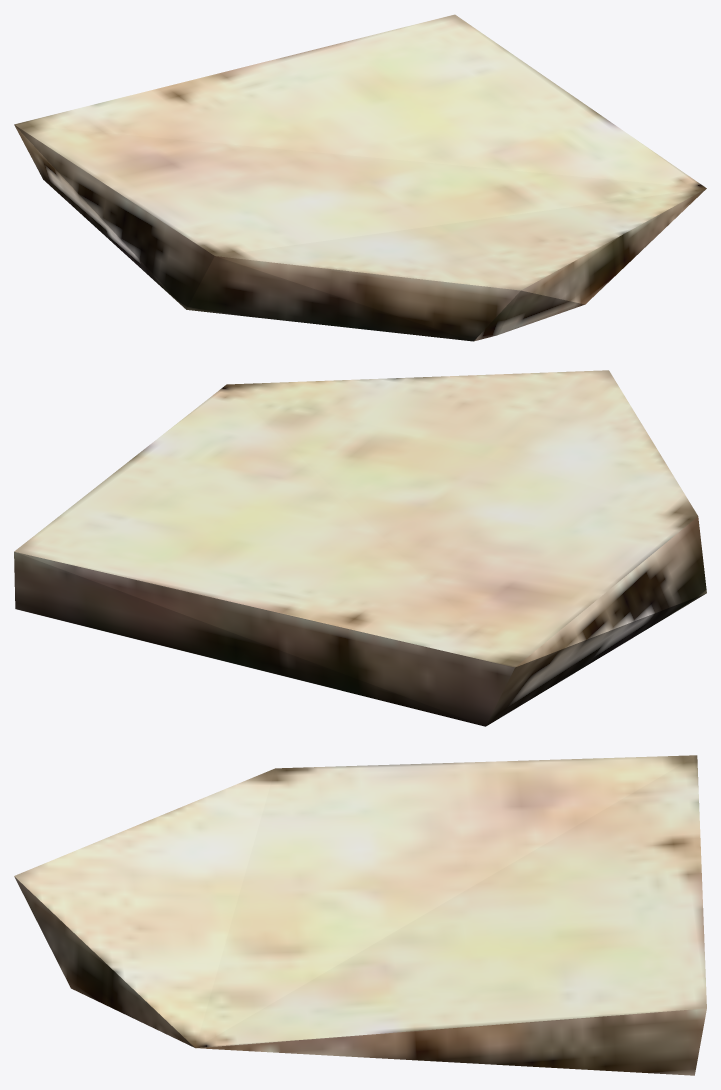
Rendered from ga3_rock_c_lod2.glb.
3 renders of one model, top to bottom at view 1: azimuth 30°, elevation 25°; view 2: azimuth 150°, elevation 25°; view 3: azimuth 270°, elevation 25°, orthographic. The views are drawn at different scales.
Visible parts, largest first — view 1: ga3_rock_c_lod2; view 2: ga3_rock_c_lod2; view 3: ga3_rock_c_lod2.
Part boxes in pixels (left/top/right/bottom): ga3_rock_c_lod2: left=14, top=14, right=706, bottom=341; ga3_rock_c_lod2: left=14, top=370, right=706, bottom=726; ga3_rock_c_lod2: left=14, top=755, right=706, bottom=1075.
Size of the model in its own units: 0.9197 by 0.1124 by 1.
1 material, 1 textured.
